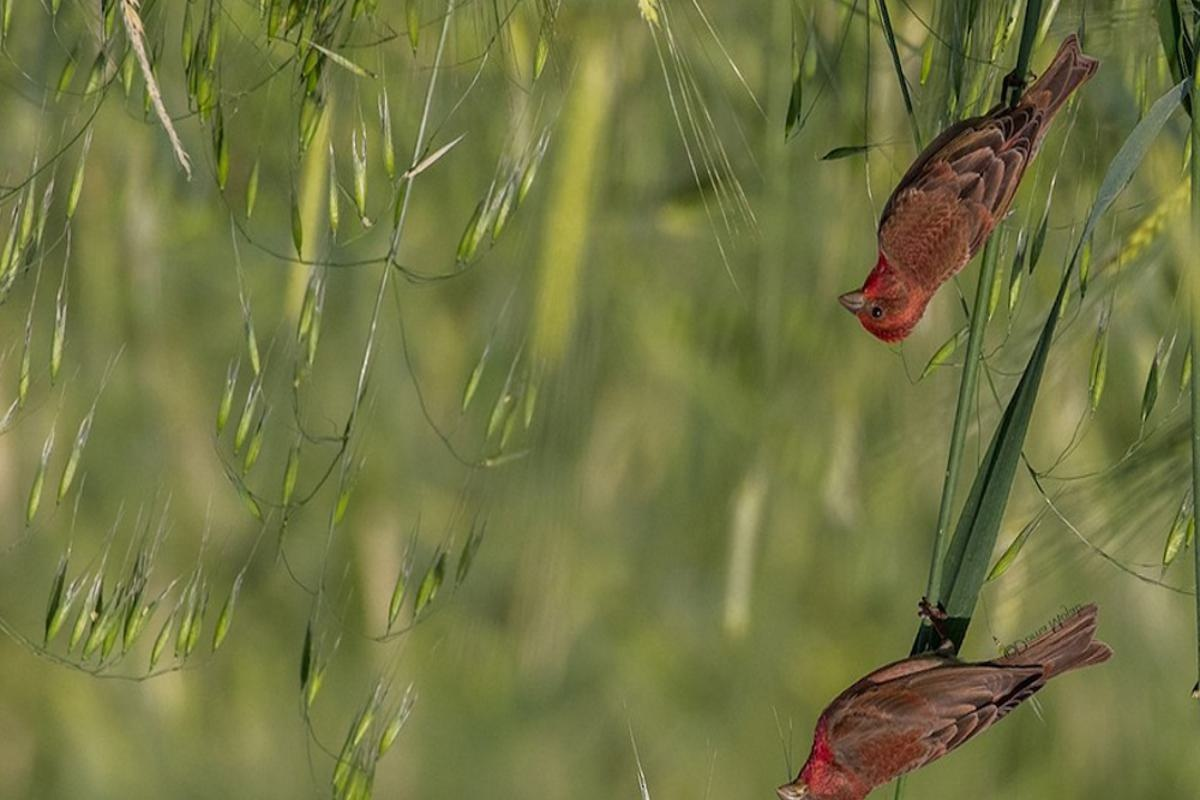rosefinch: (747, 581, 1111, 800), (824, 58, 1077, 364)
